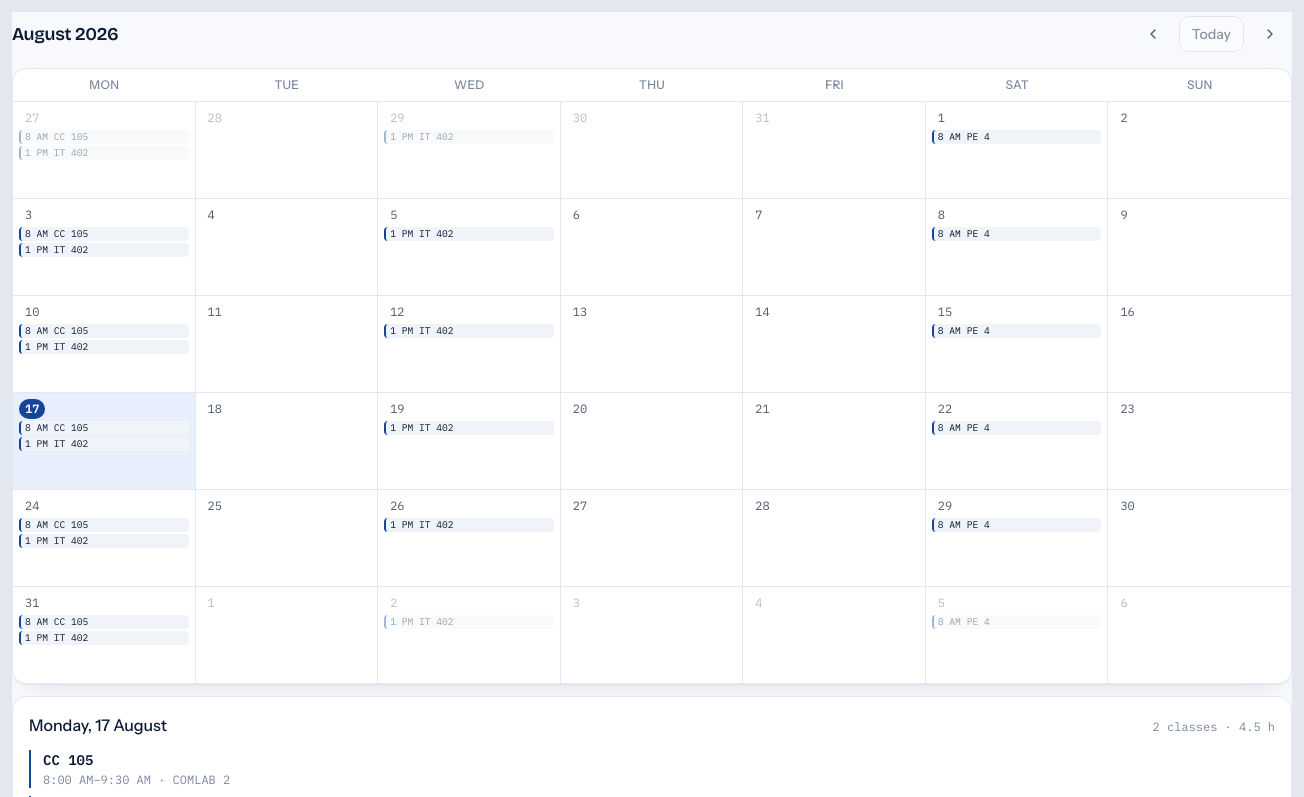
Test: the month grid › lists a day's classes in time order when it is picked
Click the button with aria-label "Saturday, 22 August" at [1017, 441], box [926, 393, 1107, 489]
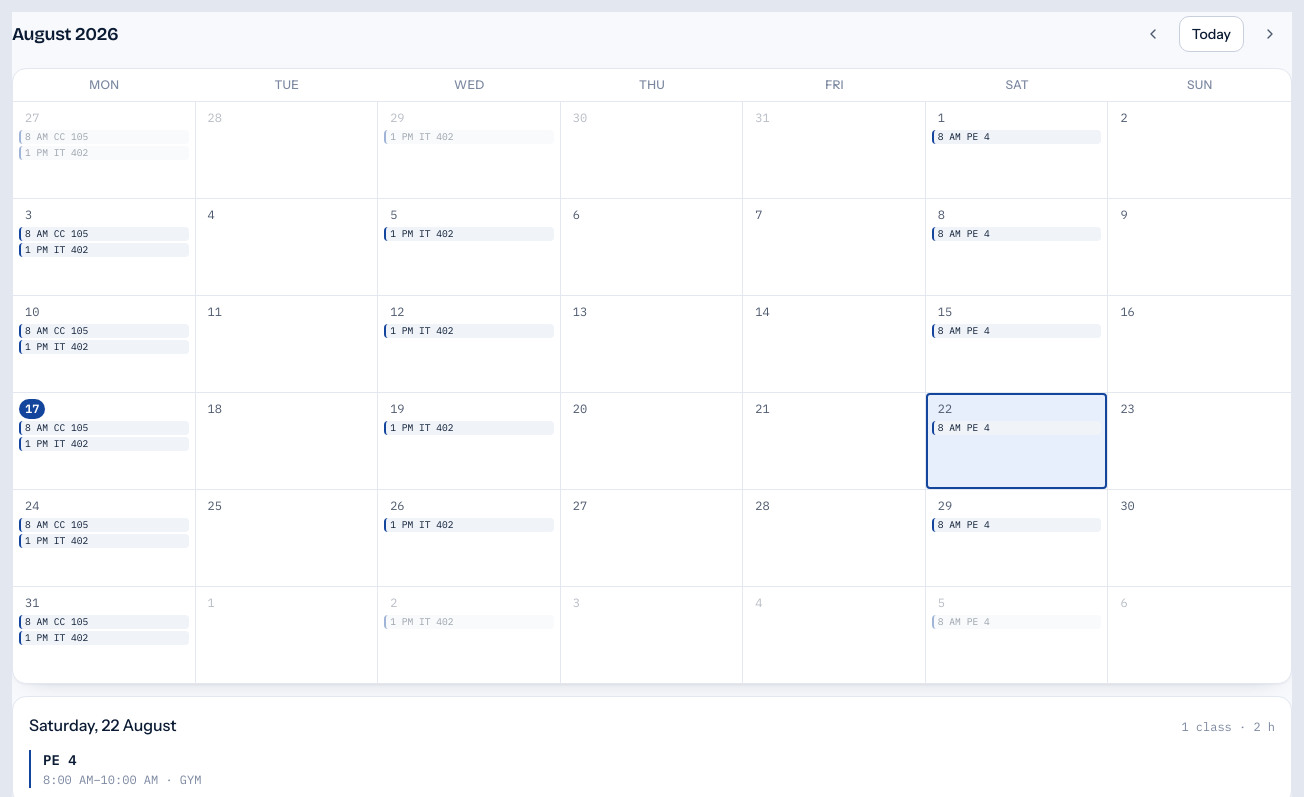
Expected: the text "Saturday, 22 August" is shown, [29, 713, 176, 738]
Expected: the text "PE 4" is shown, [43, 751, 77, 769]
Expected: the text "8:00 AM–10:00 AM · GYM" is shown, [43, 772, 201, 787]
